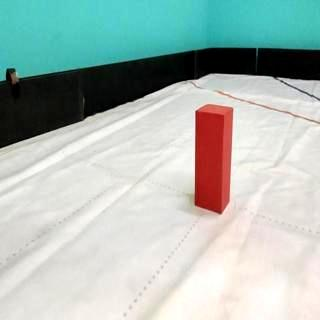redbox: (193, 103, 233, 214)
